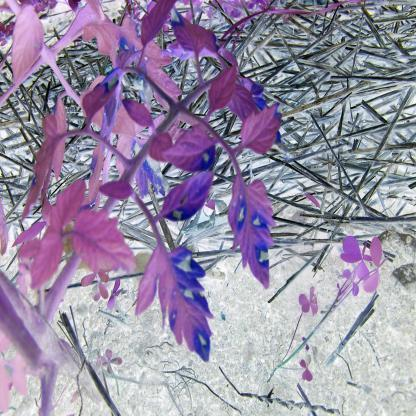Tomato Early blight leaf: (144, 237, 218, 358), (224, 164, 276, 288), (154, 170, 214, 227), (160, 125, 226, 171)
